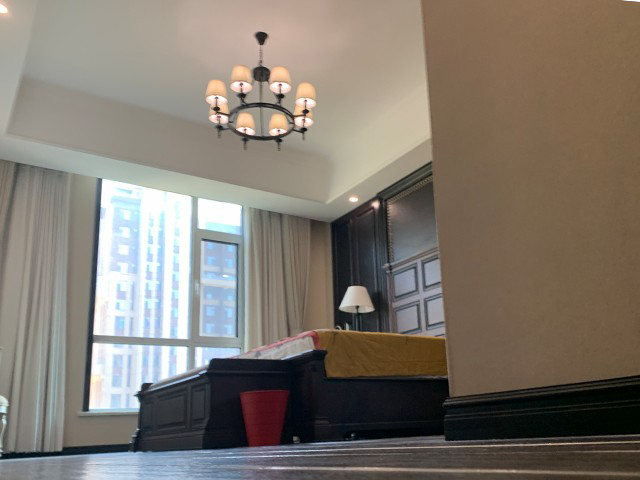bed: (288, 327, 450, 441)
curtain: (1, 159, 72, 453)
stool: (125, 357, 303, 452)
trashcan: (238, 389, 292, 447)
